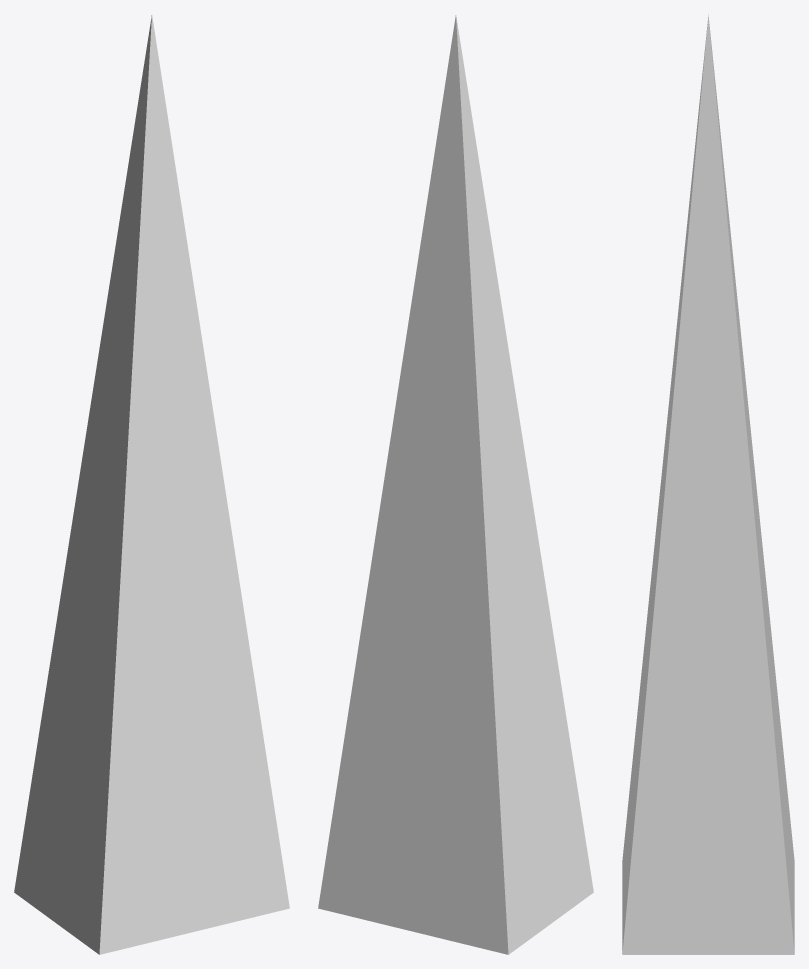
Rendered from Char_VT_Thorn.FBX.
3 renders of one model, left to right at view 1: azimuth 30°, elevation 25°; view 2: azimuth 150°, elevation 25°; view 3: azimuth 270°, elevation 25°, orthographic.
Visible parts, largest first — view 1: Pyramid001; view 2: Pyramid001; view 3: Pyramid001.
Part boxes in pixels (x1=…): Pyramid001: x1=14, y1=15, x2=289, y2=954; Pyramid001: x1=318, y1=15, x2=593, y2=954; Pyramid001: x1=622, y1=14, x2=794, y2=954.
Bounding box in the file's own units: 4.92 × 21.9 × 3.82.
